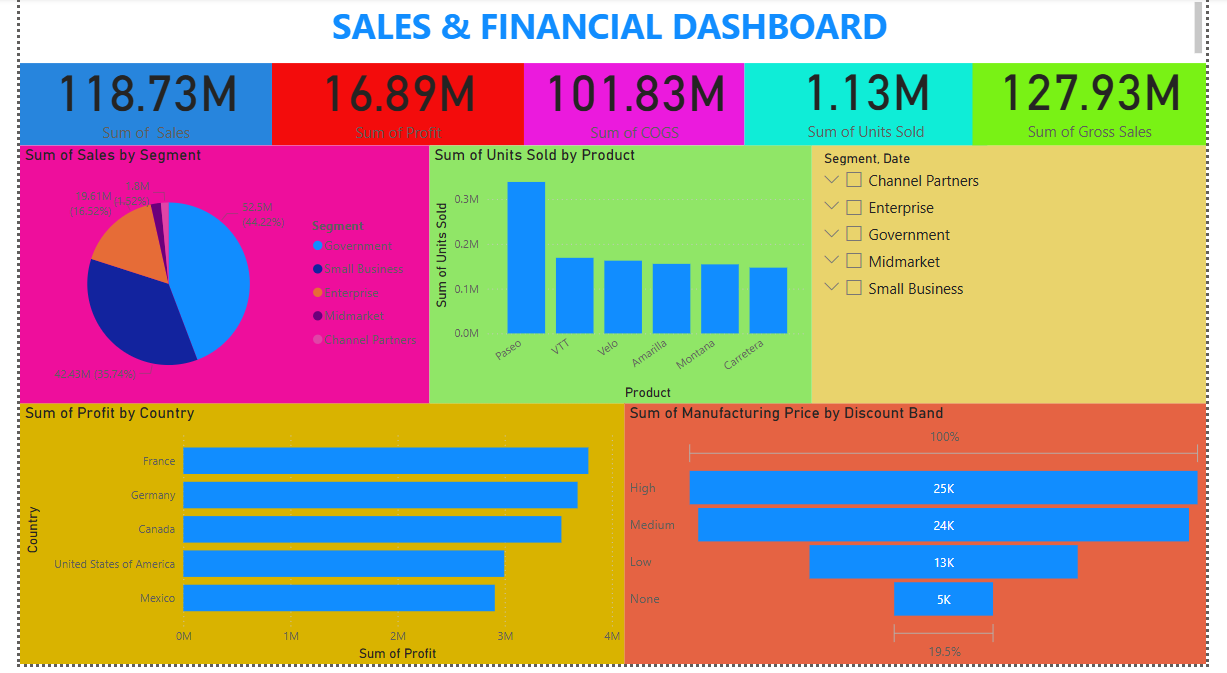

Layout of this report page (visuals, bound fields, positions):
{"tool":"powerbi","page":{"name":"Page 1","canvas":[1280,720],"ordinal":0},"visuals":[{"type":"card","fields":{"Values":["Sum(financials. Sales)"]},"box":[0,53.4,272,106.9],"z":0},{"type":"card","fields":{"Values":["Sum(financials.Profit)"]},"box":[272,53.4,272,106.9],"z":1000},{"type":"pieChart","fields":{"Category":["financials.Segment"],"Y":["Sum(financials. Sales)"]},"box":[0,160.3,442,278.5],"z":2000},{"type":"card","fields":{"Values":["Sum(financials.COGS)"]},"box":[544.1,53.4,238,106.9],"z":3000},{"type":"card","fields":{"Values":["Sum(financials.Units Sold)"]},"box":[782.1,51.8,262.3,108.5],"z":4000},{"type":"card","fields":{"Values":["Sum(financials.Gross Sales)"]},"box":[1028.2,51.8,252.6,108.5],"z":5000},{"type":"clusteredColumnChart","fields":{"Y":["Sum(financials.Units Sold)"],"Category":["financials.Product"]},"box":[442,160.3,412.9,278.5],"z":6000},{"type":"clusteredBarChart","fields":{"Category":["financials.Country"],"Y":["Sum(financials.Profit)"]},"box":[0,438.8,652.5,281.7],"z":7000},{"type":"slicer","fields":{"Values":["financials.Segment","financials.Date"]},"box":[855,160.3,425.9,278.5],"z":8000},{"type":"funnel","fields":{"Category":["financials.Discount Band"],"Y":["Sum(financials.Manufacturing Price)"]},"box":[652.5,438.8,628.3,281.7],"z":9000},{"type":"textbox","box":[0,0,1280.8,71.2],"z":9001}]}

Visuals, with their boxes in screenshot pixels (x1, y1, x2, y2), scaled from the page's 1280x720 canvas onto the 1227x673 screenshot:
card - Sum(financials. Sales): [x1=0, y1=50, x2=261, y2=150]
card - Sum(financials.Profit): [x1=261, y1=50, x2=521, y2=150]
pieChart - financials.Segment x Sum(financials. Sales): [x1=0, y1=150, x2=424, y2=410]
card - Sum(financials.COGS): [x1=522, y1=50, x2=750, y2=150]
card - Sum(financials.Units Sold): [x1=750, y1=48, x2=1001, y2=150]
card - Sum(financials.Gross Sales): [x1=986, y1=48, x2=1226, y2=150]
clusteredColumnChart - Sum(financials.Units Sold) x financials.Product: [x1=424, y1=150, x2=820, y2=410]
clusteredBarChart - financials.Country x Sum(financials.Profit): [x1=0, y1=410, x2=625, y2=672]
slicer - financials.Segment x financials.Date: [x1=820, y1=150, x2=1226, y2=410]
funnel - financials.Discount Band x Sum(financials.Manufacturing Price): [x1=625, y1=410, x2=1226, y2=672]
textbox: [x1=0, y1=0, x2=1226, y2=67]
